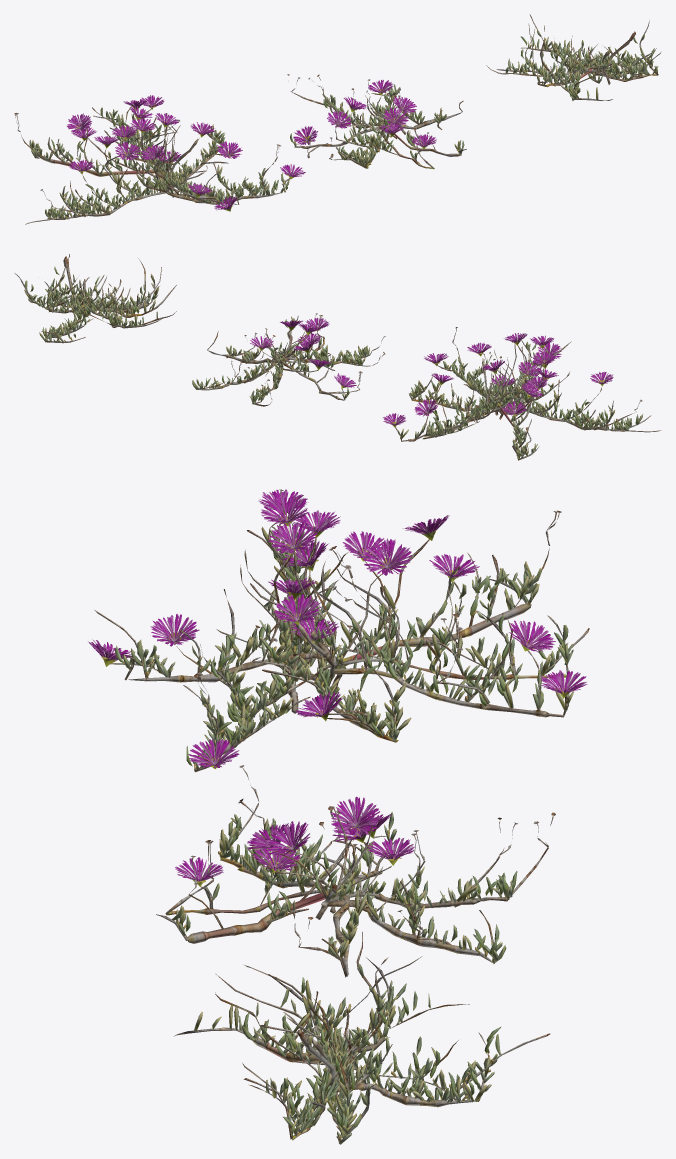
The model's file is leipoldtia_schultzei.glb.
3 views of the same model, one above another, from view 1: azimuth 30°, elevation 25°; view 2: azimuth 150°, elevation 25°; view 3: azimuth 270°, elevation 25° (orthographic). The views are drawn at different scales.
Visible parts, largest first — view 1: leipoldtia_schultzei_Large_LOD0; view 2: leipoldtia_schultzei_Large_LOD0; view 3: leipoldtia_schultzei_Large_LOD0.
Boxes of the visible parts, x1,y1,x2,y2 form: leipoldtia_schultzei_Large_LOD0: (14,14,661,224); leipoldtia_schultzei_Large_LOD0: (14,254,661,460); leipoldtia_schultzei_Large_LOD0: (88,489,589,1144).
Bounding box in the file's own units: 2.31 × 0.3171 × 0.8099.
1 material, 1 textured.
